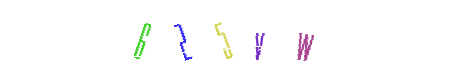2: (165, 0, 245, 80)
5: (175, 0, 255, 80)
6: (102, 0, 182, 80)
V: (197, 0, 277, 80)
W: (252, 0, 332, 80)
